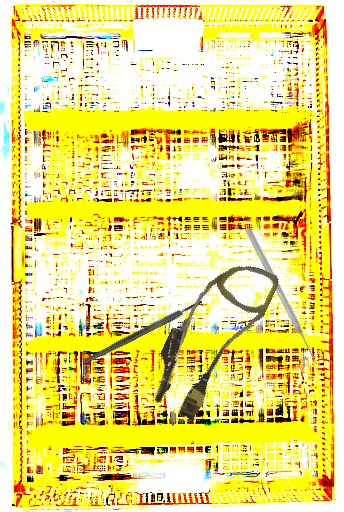Cannula: (140, 245, 282, 429)
Pusher: (243, 227, 322, 368)
Scalpel Handle: (83, 298, 204, 365)
